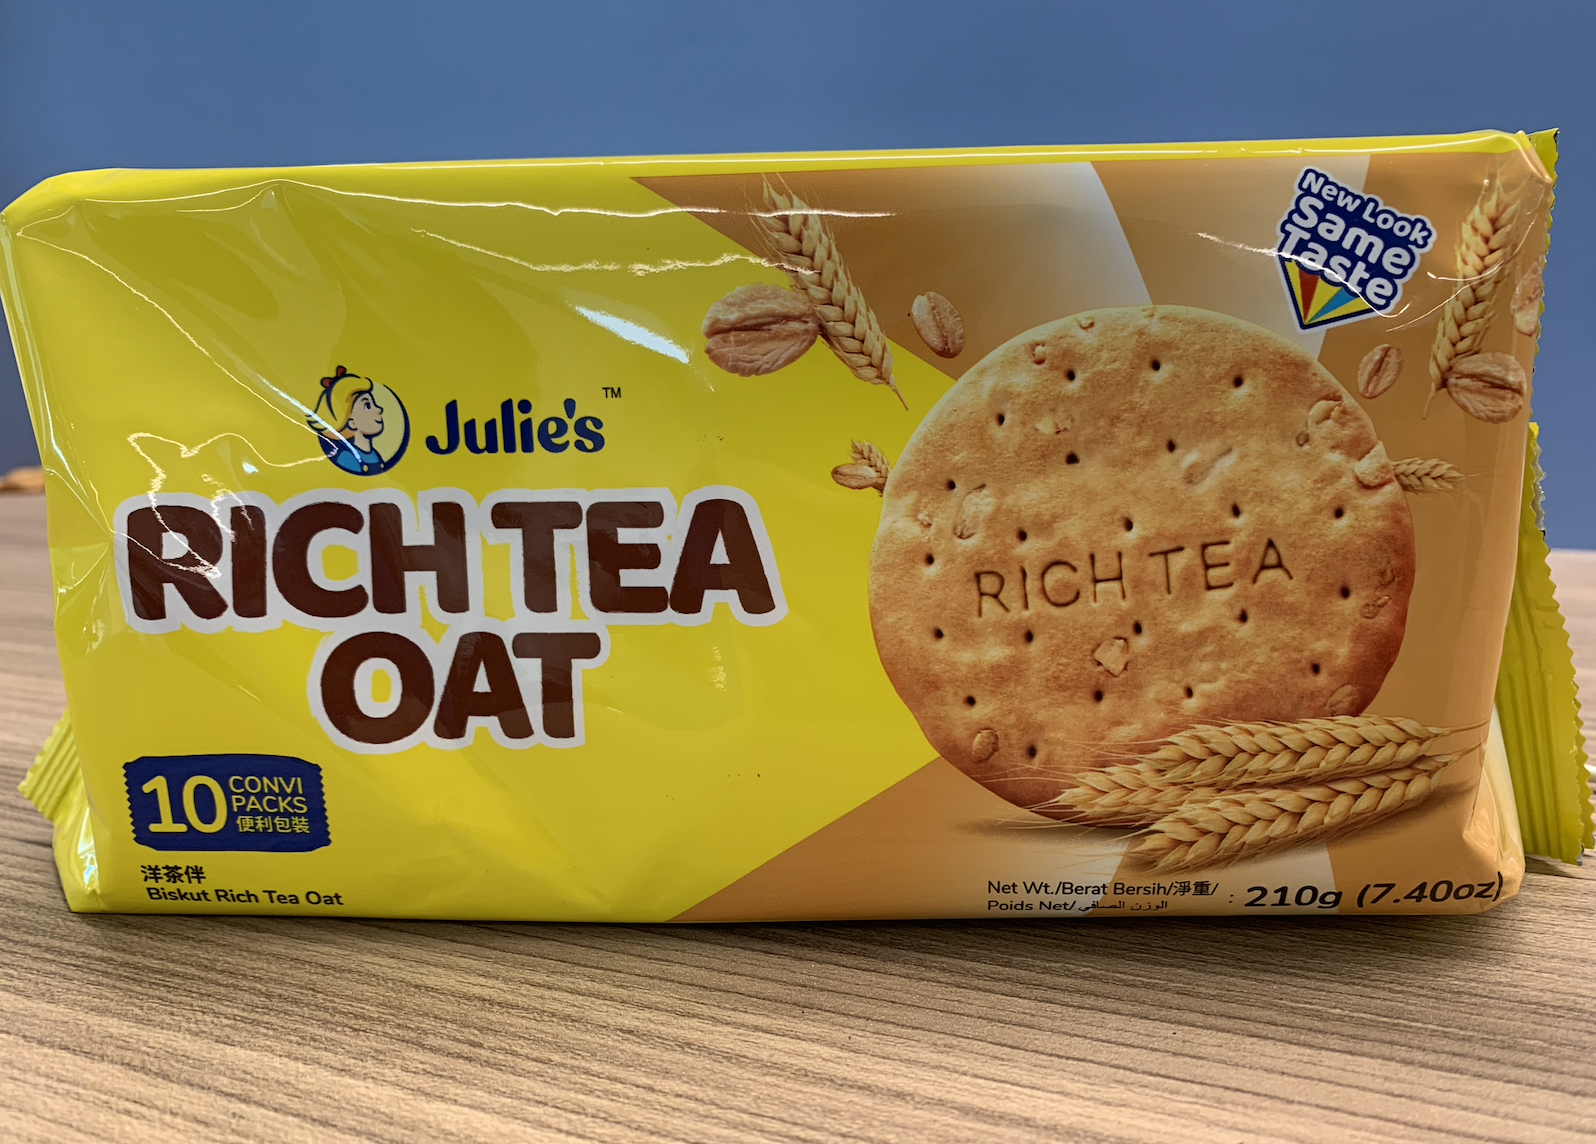cookies_200g-299g: (76, 206, 1511, 909)
